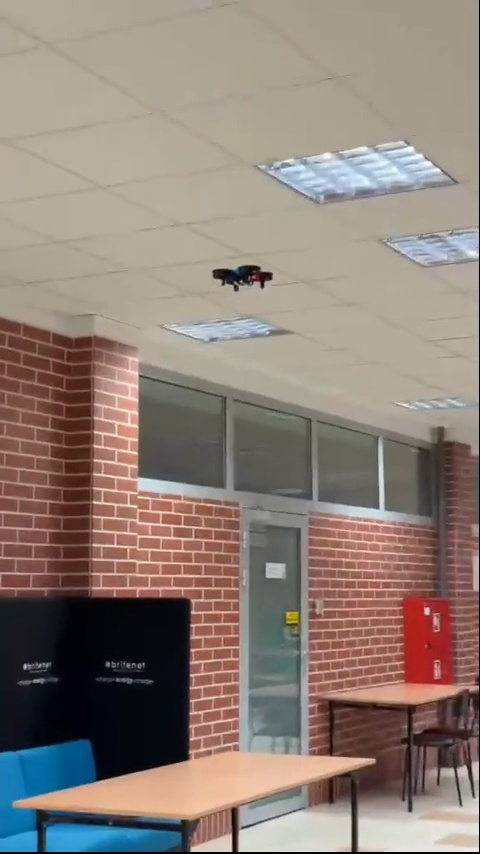drone: (210, 264, 274, 290)
